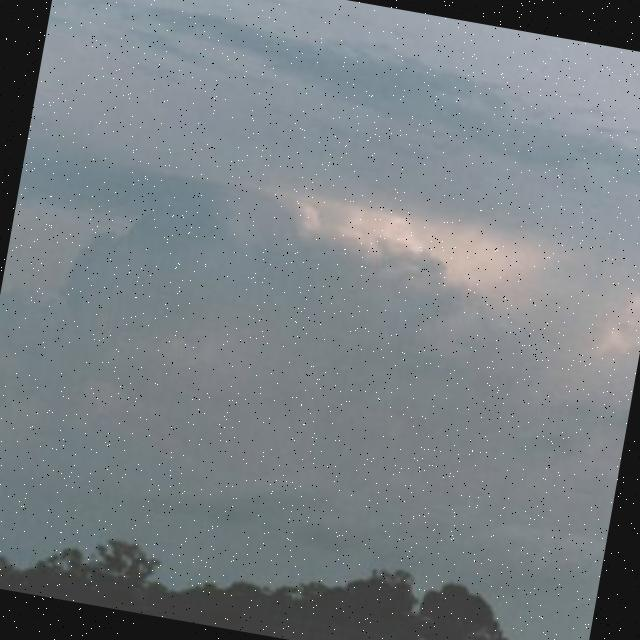St: (1, 6, 640, 531)
